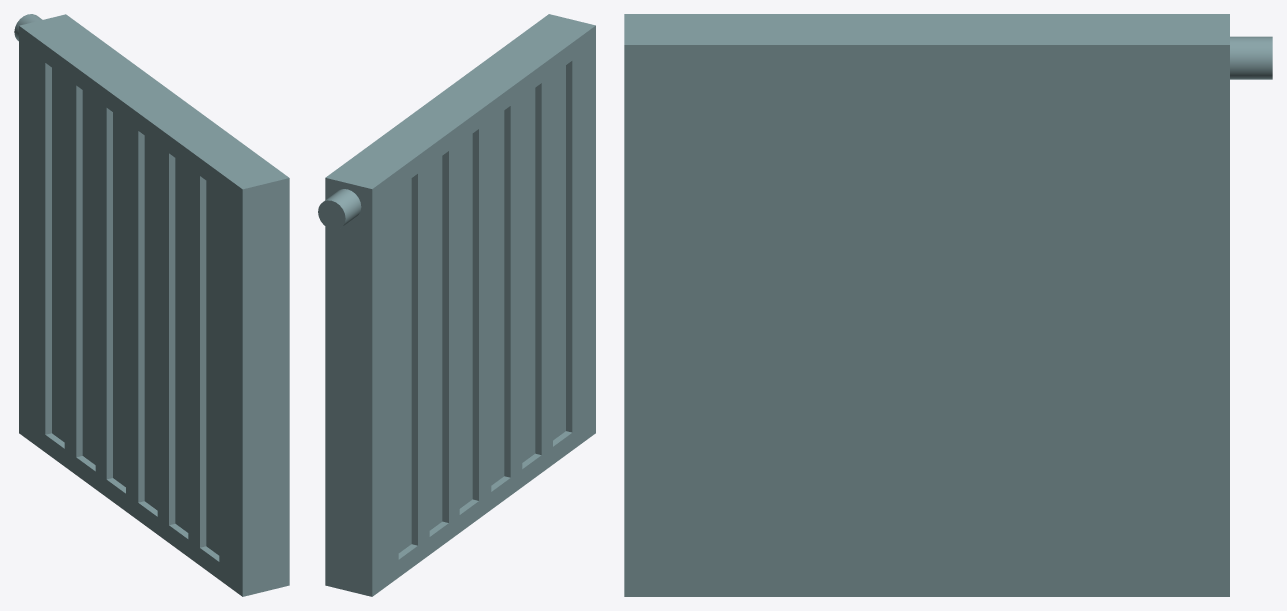
File: Verwarming.fbx
The picture shows the model from 3 angles, left to right: view 1: azimuth 30°, elevation 25°; view 2: azimuth 150°, elevation 25°; view 3: azimuth 270°, elevation 25°; orthographic projection. The views are drawn at different scales.
Visible parts, largest first — view 1: pCube27; view 2: pCube27; view 3: pCube27.
Part boxes in pixels (x1,y1,x2,y2): pCube27: [14, 14, 289, 596]; pCube27: [318, 14, 595, 596]; pCube27: [624, 14, 1272, 596].
Size of the model in its own units: 1.62 by 13.45 by 14.32.
